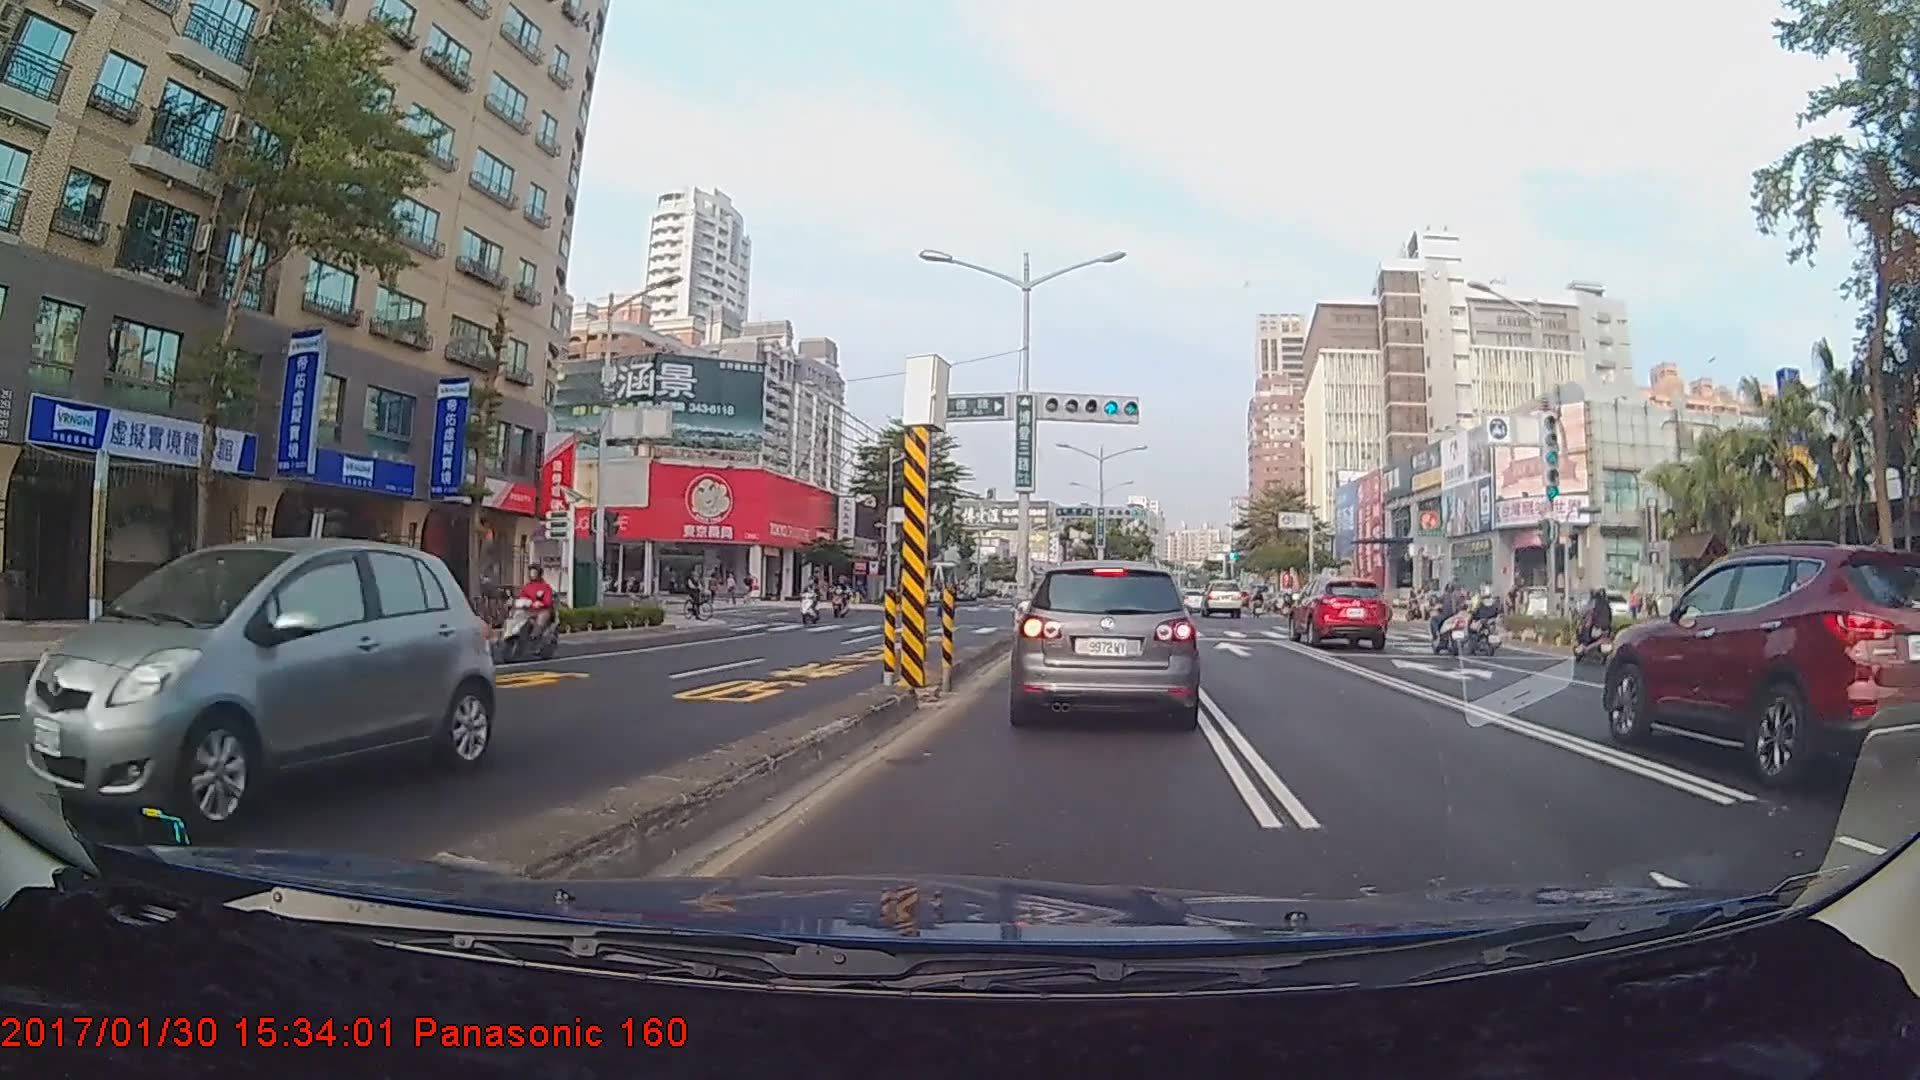rider: (1423, 584, 1477, 661), (1574, 589, 1625, 670), (1459, 584, 1509, 661), (673, 565, 713, 623), (793, 577, 828, 628)
vehicle: (16, 535, 497, 843), (1601, 539, 1917, 791), (1014, 557, 1199, 727), (1287, 571, 1393, 650), (1200, 579, 1244, 618)
